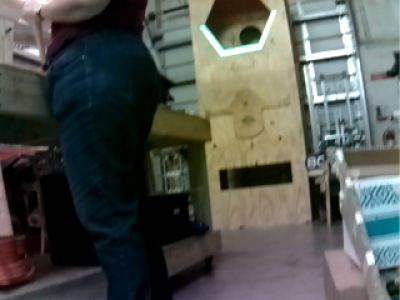target: (200, 9, 278, 57)
